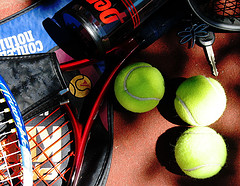tennis ball: (173, 75, 228, 128), (112, 61, 165, 114), (175, 128, 229, 180)
